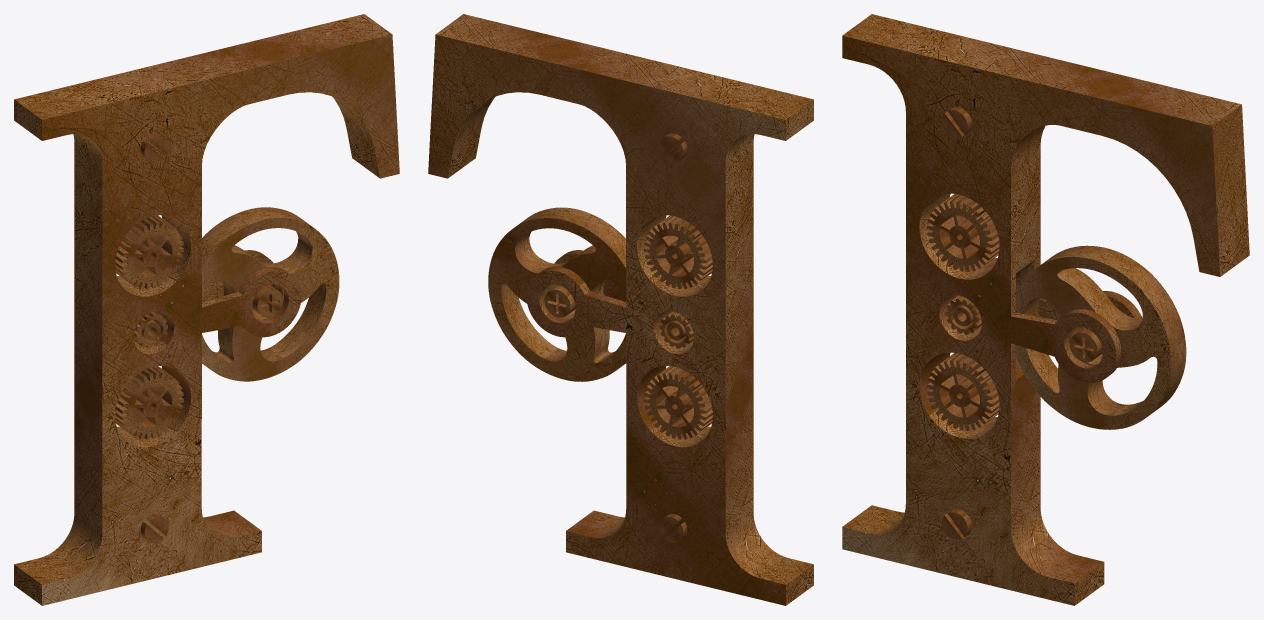
The picture shows the model from 3 angles, left to right: view 1: azimuth 30°, elevation 25°; view 2: azimuth 150°, elevation 25°; view 3: azimuth 330°, elevation 25°; orthographic projection. The views are drawn at different scales.
Parts seen in each view (by area): view 1: F, Cogwheel_412, Cogwheel_326, Cogwheel_321, Cogwheel_320, Screw_853, Screw_846, Screw_852; view 2: F, Cogwheel_412, Cogwheel_326, Cogwheel_321, Cogwheel_320, Screw_853, Screw_846, Screw_852; view 3: F, Cogwheel_412, Cogwheel_326, Cogwheel_321, Cogwheel_320, Screw_853, Screw_852, Screw_846.
Part boxes in pixels (left/top/right/bottom): F: left=14, top=14, right=399, bottom=605; Cogwheel_412: left=202, top=207, right=339, bottom=381; Cogwheel_326: left=115, top=215, right=183, bottom=289; Cogwheel_321: left=115, top=366, right=183, bottom=439; Cogwheel_320: left=134, top=311, right=167, bottom=348; Screw_853: left=252, top=285, right=283, bottom=317; Screw_846: left=140, top=133, right=168, bottom=162; Screw_852: left=140, top=514, right=168, bottom=542; F: left=428, top=14, right=813, bottom=605; Cogwheel_412: left=488, top=207, right=626, bottom=381; Cogwheel_326: left=644, top=215, right=712, bottom=289; Cogwheel_321: left=644, top=366, right=712, bottom=439; Cogwheel_320: left=659, top=311, right=693, bottom=348; Screw_853: left=544, top=285, right=575, bottom=317; Screw_846: left=659, top=133, right=687, bottom=162; Screw_852: left=659, top=514, right=687, bottom=542; F: left=842, top=14, right=1249, bottom=605; Cogwheel_412: left=1016, top=245, right=1186, bottom=429; Cogwheel_326: left=927, top=194, right=999, bottom=271; Cogwheel_321: left=927, top=353, right=999, bottom=430; Cogwheel_320: left=945, top=295, right=981, bottom=334; Screw_853: left=1070, top=328, right=1102, bottom=362; Screw_852: left=942, top=509, right=971, bottom=539; Screw_846: left=942, top=107, right=971, bottom=137.
Bounding box in the file's own units: 73.72 × 95.73 × 12.89.
Materials: 1 (1 with a texture image).
